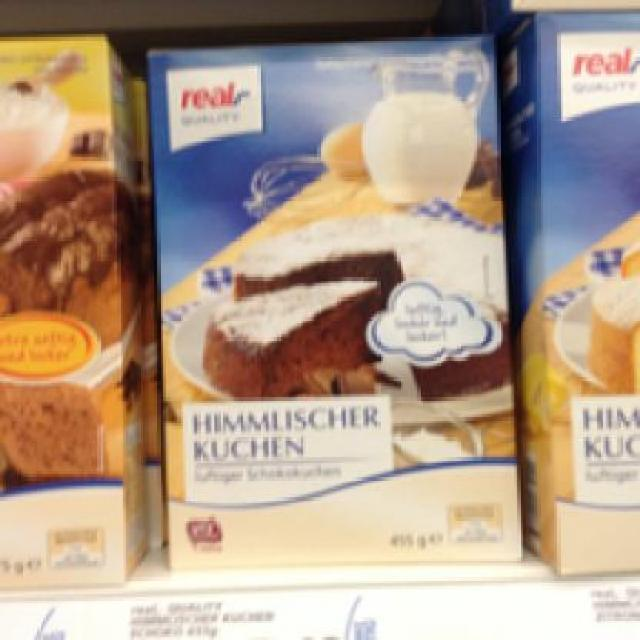Cake: (140, 28, 543, 566), (0, 26, 129, 580)
